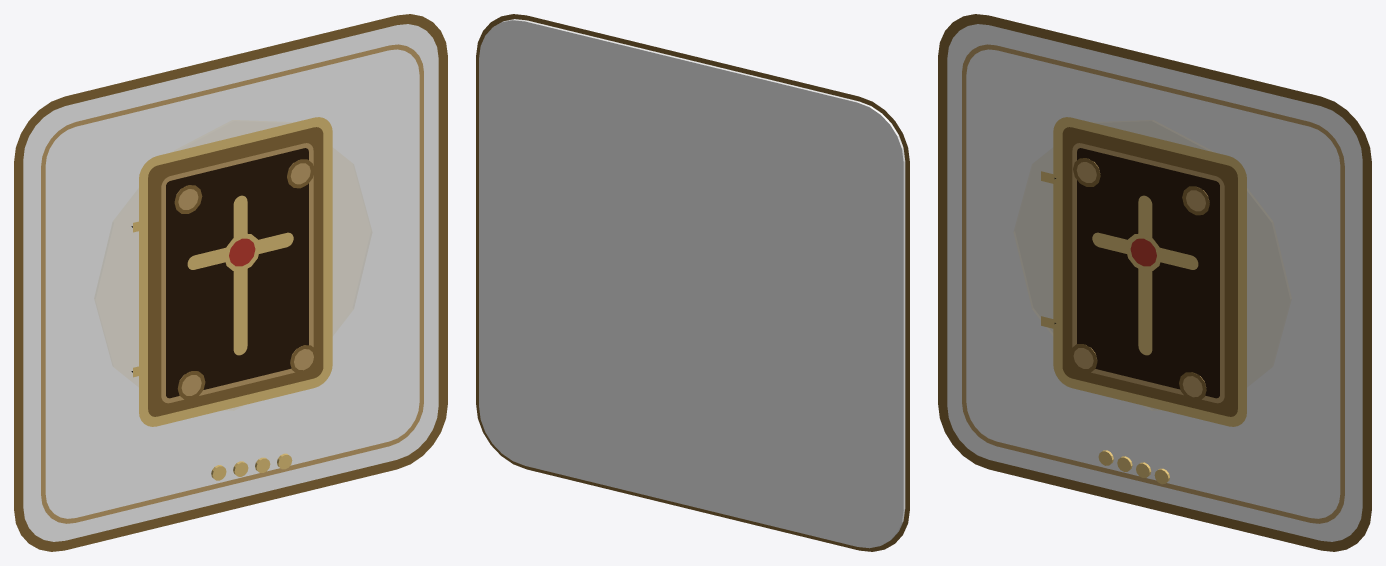
The model's file is gate-1-foundational.glb.
3 renders of one model, left to right at view 1: azimuth 30°, elevation 25°; view 2: azimuth 150°, elevation 25°; view 3: azimuth 330°, elevation 25°, orthographic.
Parts seen in each view (by area): view 1: gate-1-foundational; view 2: gate-1-foundational; view 3: gate-1-foundational.
Boxes of the visible parts, x1,y1,x2,y2 form: gate-1-foundational: (14, 14, 447, 551); gate-1-foundational: (476, 14, 909, 551); gate-1-foundational: (938, 14, 1371, 551).
Bounding box in the file's own units: 1.18 × 1.18 × 0.12.
